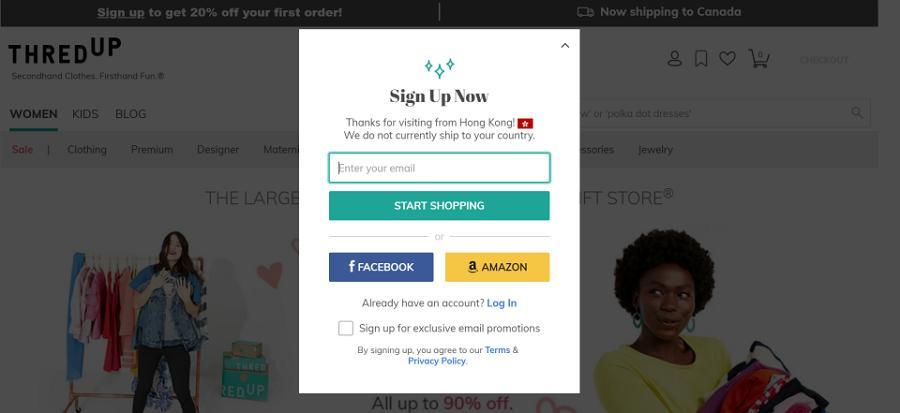button: (330, 192, 551, 223), (445, 252, 551, 285), (329, 253, 435, 284)
checkbox: (338, 321, 355, 337)
icon: (747, 49, 773, 70), (720, 51, 737, 68), (669, 50, 683, 68), (695, 51, 709, 69)
input: (330, 153, 552, 182)
label: (342, 116, 539, 144), (359, 323, 542, 336), (362, 297, 520, 311), (389, 88, 491, 107), (800, 55, 850, 67)
